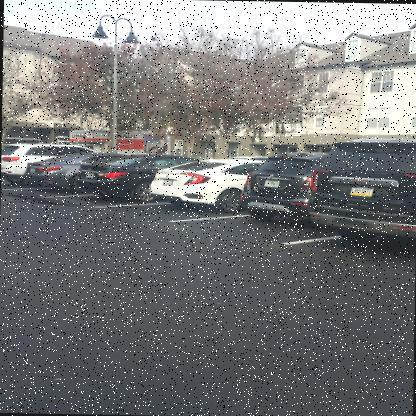License-Plate: (350, 185, 374, 198), (264, 178, 280, 188), (162, 178, 174, 186), (85, 172, 94, 178), (30, 168, 36, 173)
